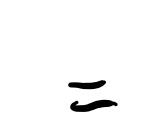eqv: (68, 80, 118, 112)
